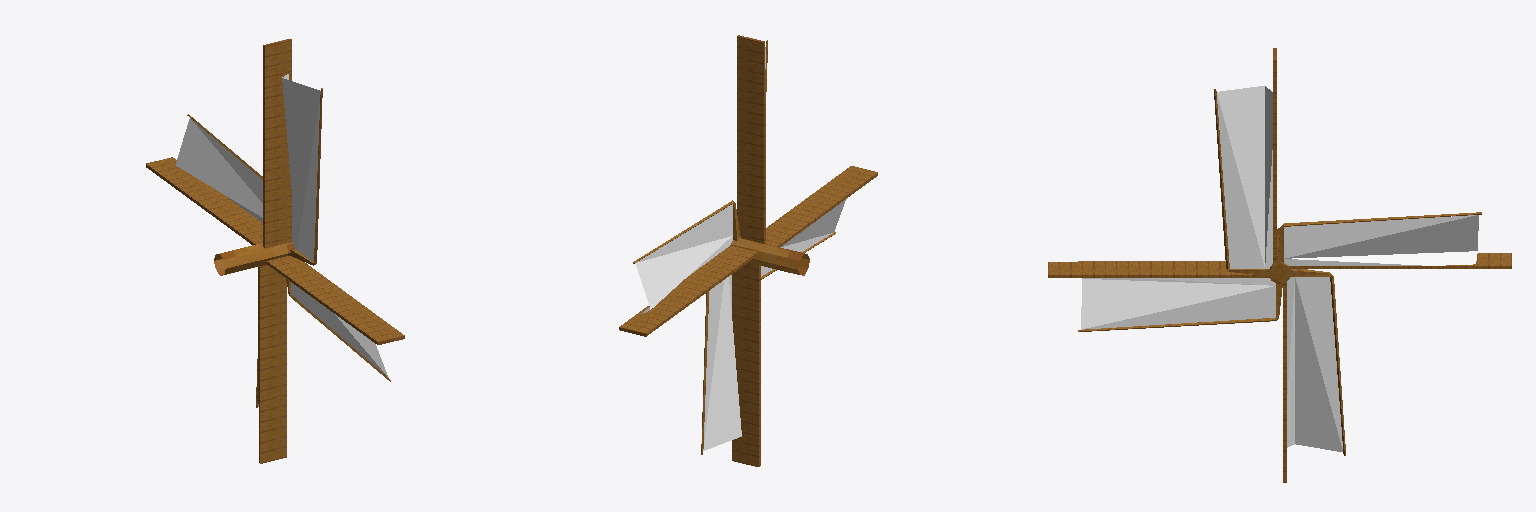
3 renders of one model, left to right at view 1: azimuth 30°, elevation 25°; view 2: azimuth 150°, elevation 25°; view 3: azimuth 270°, elevation 25°, orthographic.
Parts seen in each view (by area): view 1: n0b0.006; view 2: n0b0.006; view 3: n0b0.006.
Part boxes in pixels (x1,y1,x2,y2): n0b0.006: (146, 39, 404, 463); n0b0.006: (619, 35, 877, 466); n0b0.006: (1048, 48, 1511, 482).
Size of the model in its own units: 0.8456 by 4.71 by 4.71.
Materials: 2 (1 with a texture image).